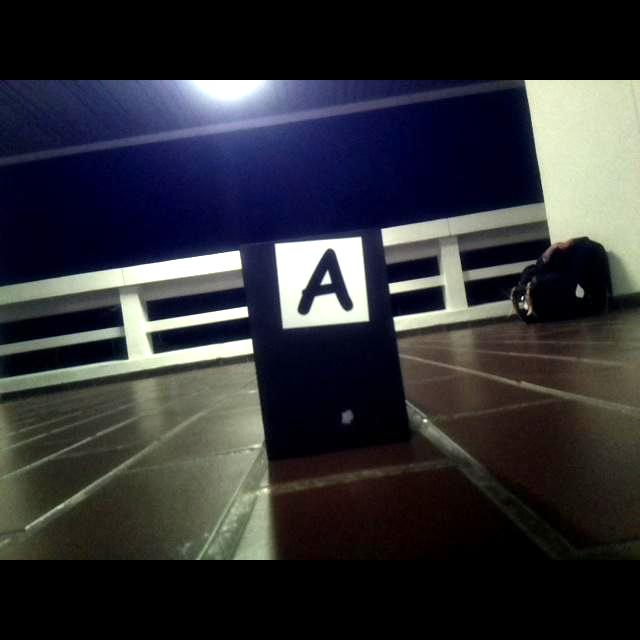A: (298, 248, 354, 317)
